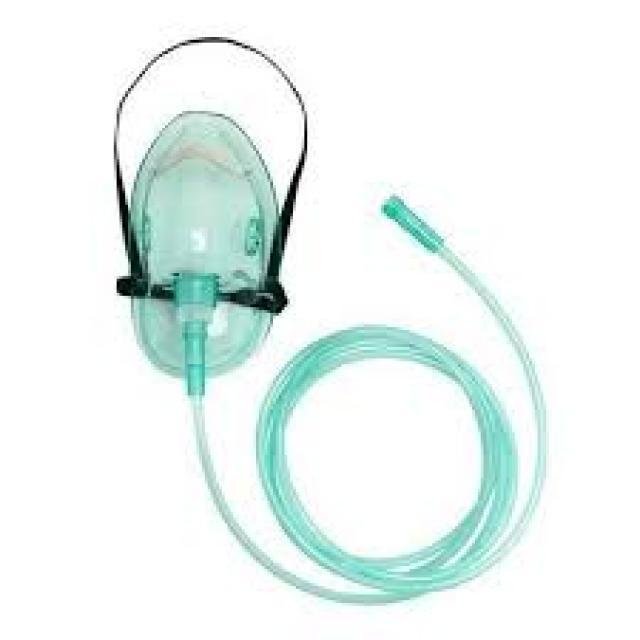oxygen_mask: (130, 94, 279, 418)
